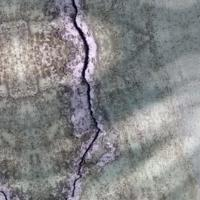crack: (59, 0, 115, 199)
